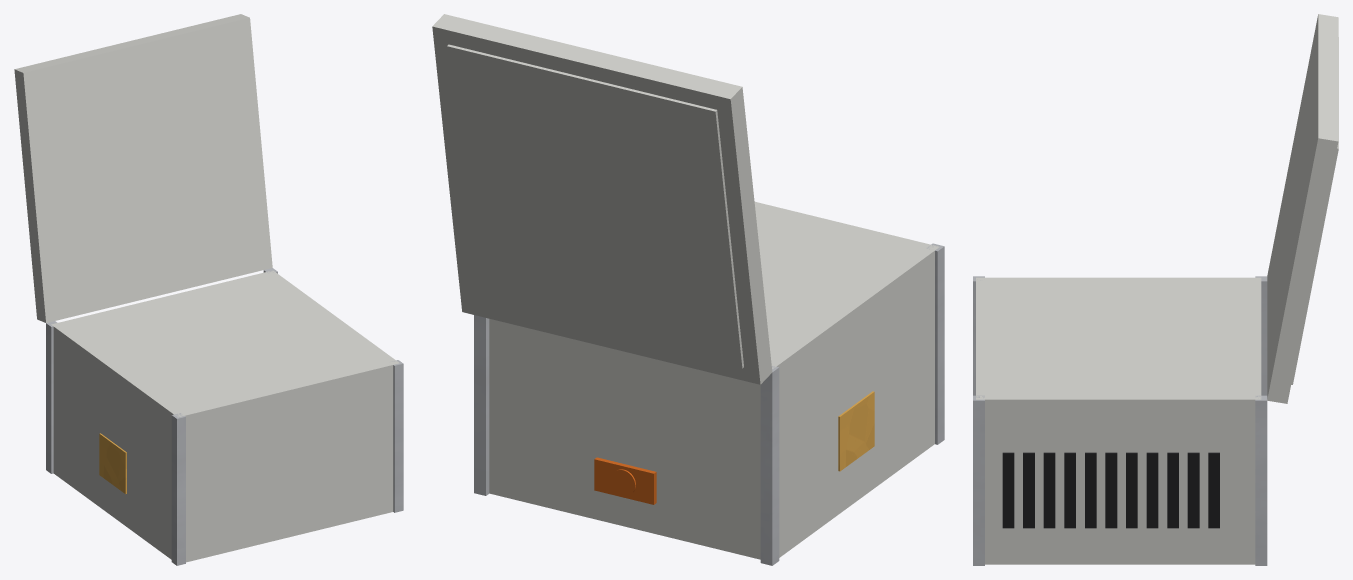
File: rover26_battery_bay_m_lid_open.glb
3 renders of one model, left to right at view 1: azimuth 30°, elevation 25°; view 2: azimuth 150°, elevation 25°; view 3: azimuth 270°, elevation 25°, orthographic. The views are drawn at different scales.
Visible parts, largest first — view 1: body, lid, frame, gold_label; view 2: lid, body, frame, port_connector, gold_label; view 3: body, lid, vents, frame.
Boxes of the visible parts, x1,y1,x2,y2 form: body: [51, 270, 399, 562]; lid: [14, 14, 272, 322]; frame: [46, 268, 403, 565]; gold_label: [99, 433, 126, 494]; lid: [432, 14, 772, 384]; body: [489, 201, 939, 559]; frame: [474, 243, 944, 565]; port_connector: [594, 457, 656, 504]; gold_label: [838, 391, 874, 471]; body: [976, 277, 1261, 564]; lid: [1267, 14, 1338, 403]; vents: [1002, 452, 1219, 528]; frame: [973, 276, 1267, 565].
Size of the model in its own units: 1 by 1.6 by 1.24.
5 materials, 2 textured.
